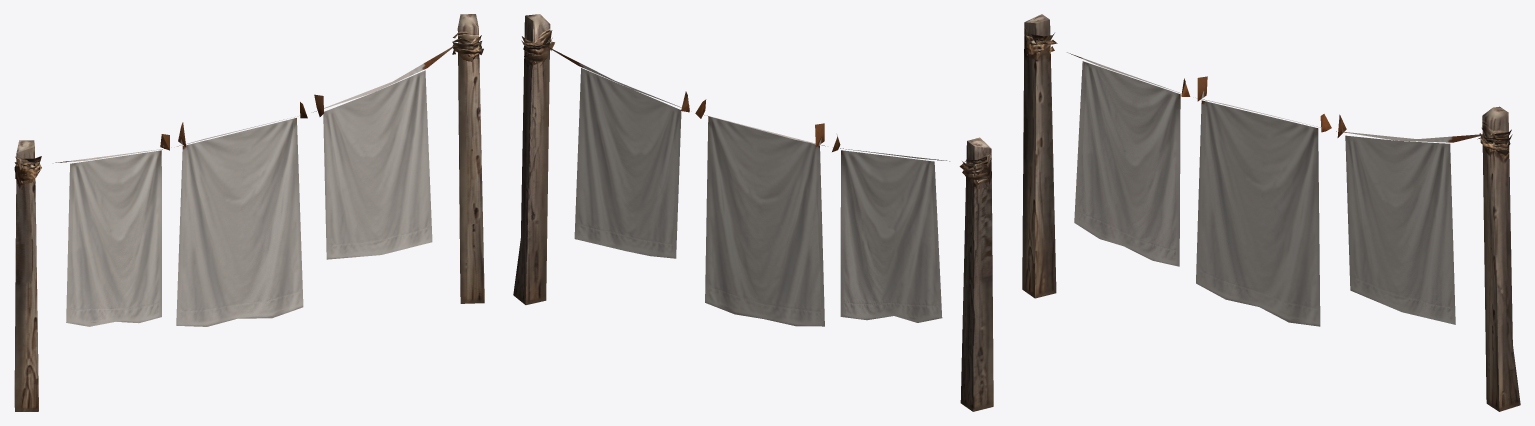
File: act1_kit_v1_drying_line.glb
3 views of the same model, side by side, from view 1: azimuth 30°, elevation 25°; view 2: azimuth 150°, elevation 25°; view 3: azimuth 330°, elevation 25° (orthographic). The views are drawn at different scales.
Visible parts, largest first — view 1: A23_6_drying_line; view 2: A23_6_drying_line; view 3: A23_6_drying_line.
Boxes of the visible parts, x1,y1,x2,y2 form: A23_6_drying_line: [14, 14, 484, 411]; A23_6_drying_line: [513, 14, 993, 411]; A23_6_drying_line: [1022, 14, 1520, 411].
Bounding box in the file's own units: 0.9975 × 0.5746 × 0.0692.
1 material, 1 textured.
